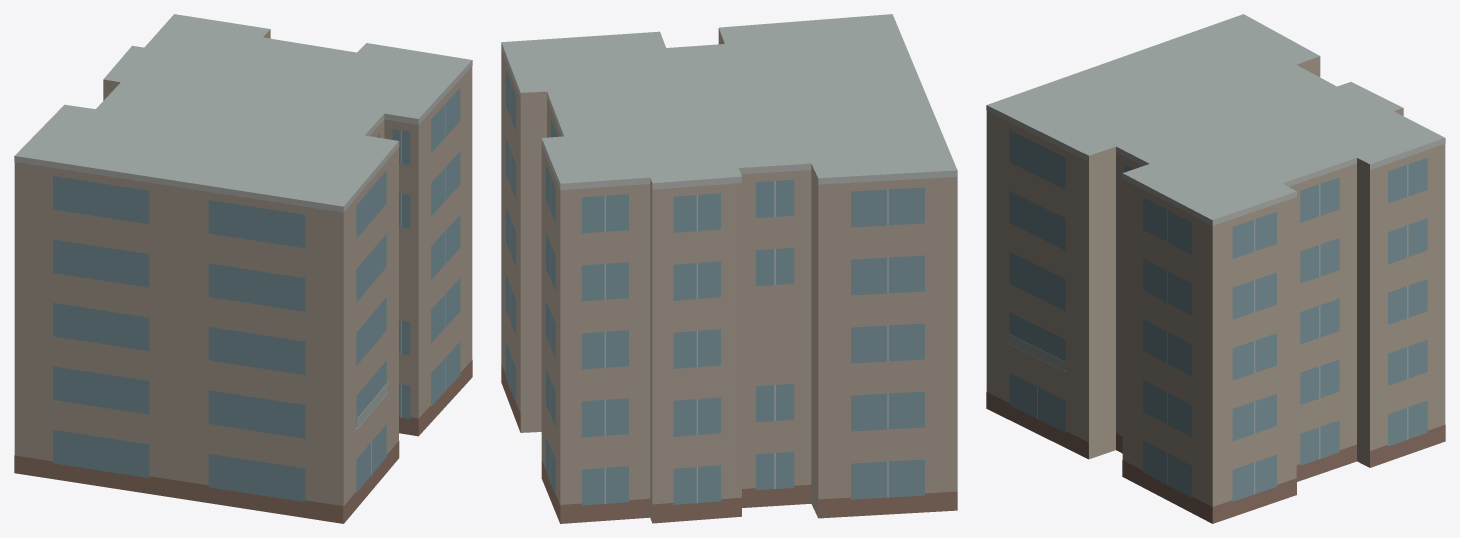
Rendered from survey-upis-32969631.glb.
The picture shows the model from 3 angles, left to right: view 1: azimuth 30°, elevation 25°; view 2: azimuth 150°, elevation 25°; view 3: azimuth 270°, elevation 25°; orthographic projection. The views are drawn at different scales.
Parts seen in each view (by area): view 1: survey-upis-32969631.tmp; view 2: survey-upis-32969631.tmp; view 3: survey-upis-32969631.tmp.
Boxes of the visible parts, x1=… form: survey-upis-32969631.tmp: x1=14, y1=14, x2=472, y2=523; survey-upis-32969631.tmp: x1=501, y1=14, x2=957, y2=523; survey-upis-32969631.tmp: x1=986, y1=14, x2=1445, y2=523.
Size of the model in its own units: 18.95 by 13 by 17.82.
